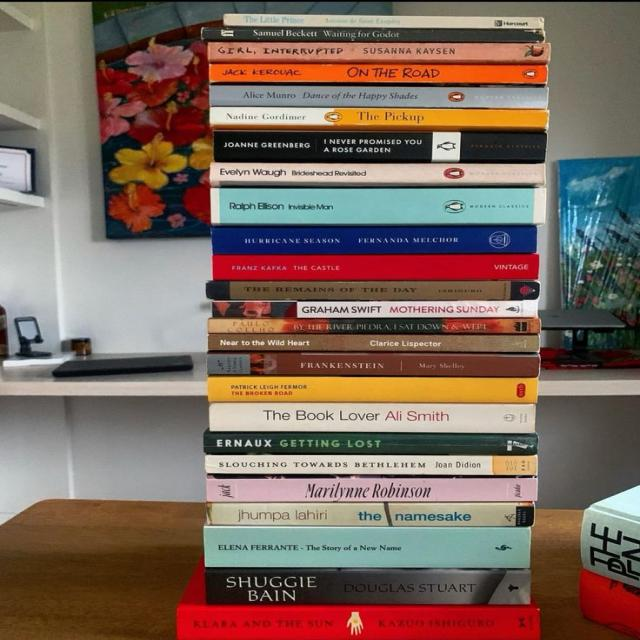book: (204, 525, 530, 568), (205, 567, 530, 605), (177, 606, 537, 640), (210, 189, 545, 224), (214, 128, 545, 162), (210, 403, 534, 433), (213, 226, 536, 254), (203, 429, 537, 456), (213, 254, 538, 281), (208, 352, 539, 378), (207, 377, 537, 403), (208, 476, 537, 502), (224, 14, 543, 39), (208, 503, 533, 527), (210, 163, 545, 185), (210, 64, 548, 84), (210, 86, 547, 106), (211, 108, 546, 128), (206, 281, 538, 301), (206, 455, 537, 475), (209, 43, 549, 62), (212, 300, 537, 319), (209, 335, 539, 353), (209, 319, 539, 334), (204, 27, 540, 40)
